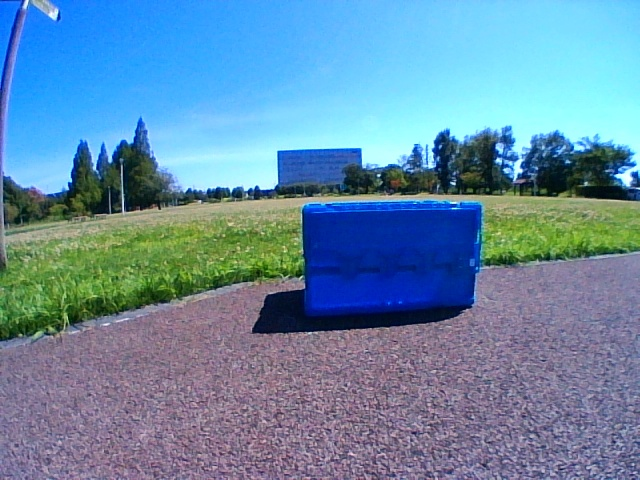blue_box: (302, 201, 481, 317)
